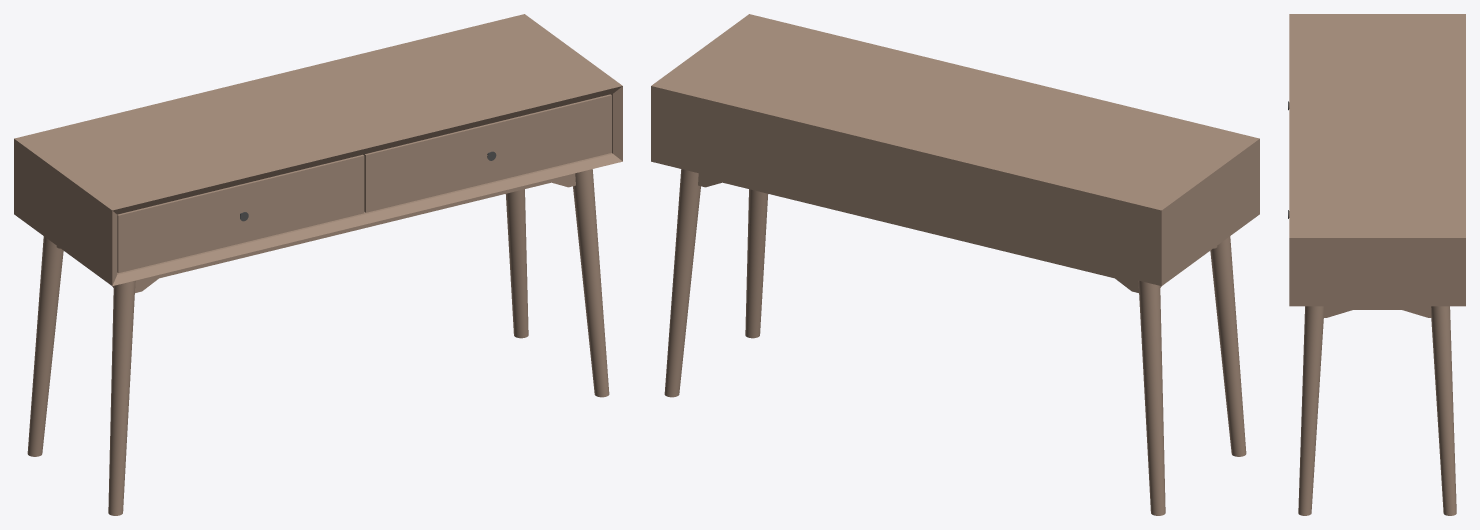
Rendered from 470_コンソールテーブル.glb.
3 views of the same model, side by side, from view 1: azimuth 30°, elevation 25°; view 2: azimuth 150°, elevation 25°; view 3: azimuth 270°, elevation 25° (orthographic). The views are drawn at different scales.
Parts seen in each view (by area): view 1: body, hikidashi_migi, hikidashi_hidari; view 2: body; view 3: body.
Part boxes in pixels (x1,y1,x2,y2): body: [14, 14, 622, 515]; hikidashi_migi: [363, 94, 611, 212]; hikidashi_hidari: [117, 154, 364, 273]; body: [651, 14, 1259, 515]; body: [1289, 14, 1465, 515].
Bounding box in the file's own units: 1.2 × 0.7 × 0.4026.
